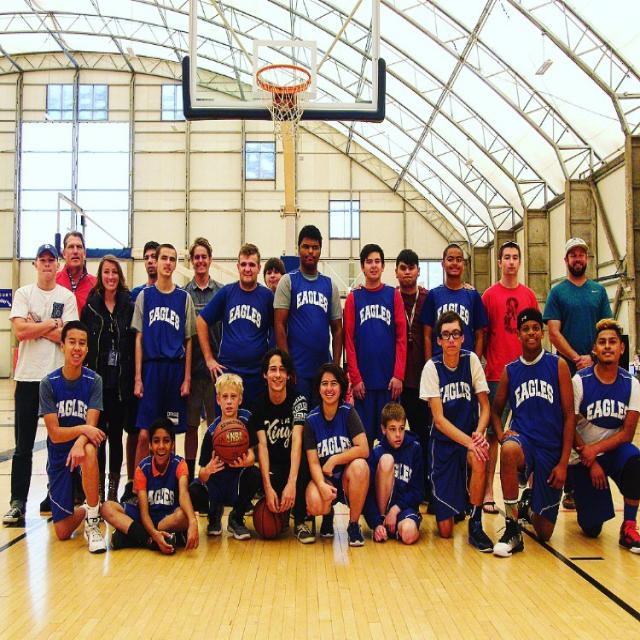body: (346, 245, 476, 508), (1, 242, 82, 529), (489, 304, 575, 559), (414, 308, 498, 552), (544, 234, 614, 512), (562, 316, 639, 556), (130, 242, 199, 500), (477, 236, 539, 515), (36, 316, 108, 555), (77, 253, 136, 512), (340, 241, 409, 456), (194, 241, 276, 419), (96, 418, 202, 554), (271, 222, 344, 408), (299, 360, 371, 548), (252, 348, 316, 545), (180, 234, 226, 487), (197, 372, 260, 540), (359, 400, 426, 545), (417, 243, 490, 364), (54, 229, 102, 321), (263, 257, 290, 352), (128, 240, 161, 306)
